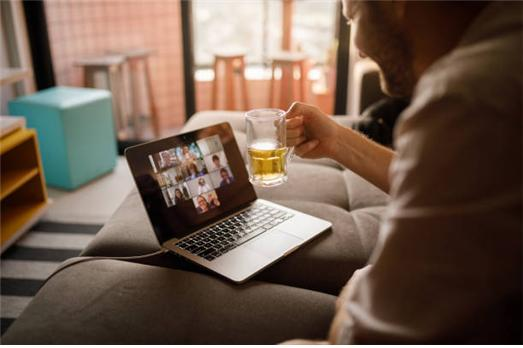alcohol: (244, 108, 290, 188)
